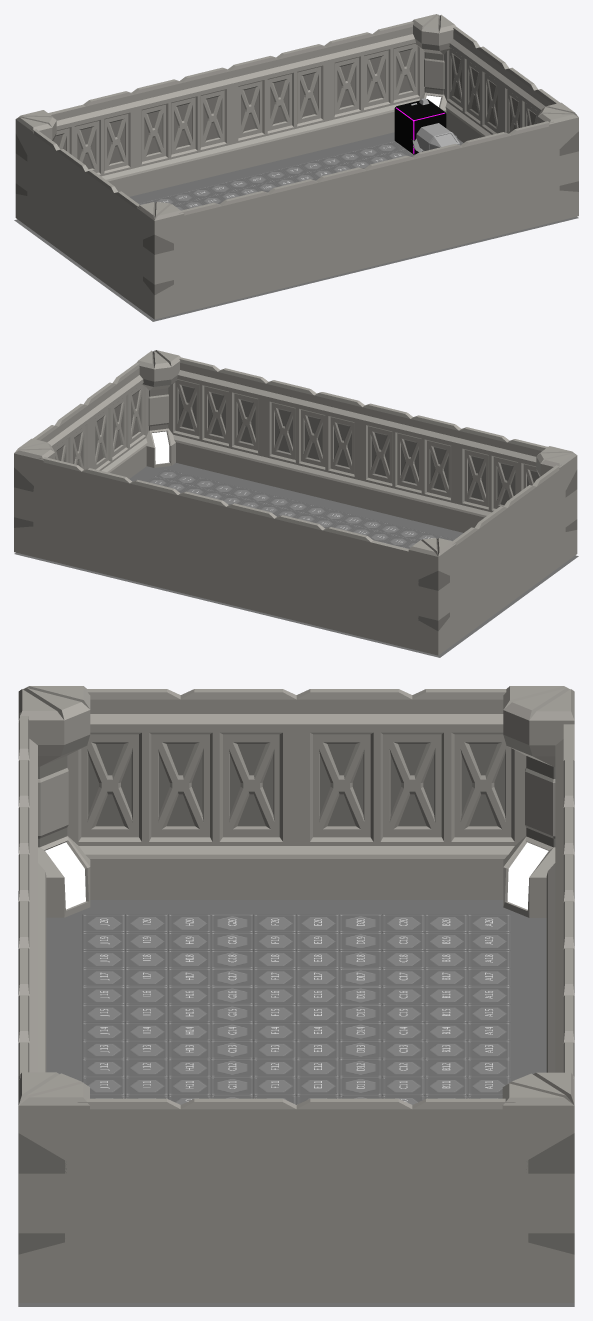
File: Parking_GameBoard_000 2.fbx
The picture shows the model from 3 angles, top to bottom: view 1: azimuth 30°, elevation 25°; view 2: azimuth 150°, elevation 25°; view 3: azimuth 270°, elevation 25°; orthographic projection. The views are drawn at different scales.
Visible parts, largest first — view 1: Game_Border, Game_Floor, Ship_2x2, Ship_2x4; view 2: Game_Border, Game_Floor; view 3: Game_Border, Game_Floor, Map_Coordinates, Tile_A_19, Tile_B_19, Tile_F_19, Tile_J_19, Tile_I_16, Tile_B_18, Tile_I_19, Tile_B_20, Tile_I_14 (+89 smaller).
Part boxes in pixels (left/top/right/bottom): Game_Border: left=15, top=14, right=578, bottom=319; Game_Floor: left=14, top=132, right=578, bottom=321; Ship_2x2: left=394, top=99, right=446, bottom=154; Ship_2x4: left=411, top=103, right=459, bottom=151; Game_Border: left=14, top=350, right=577, bottom=655; Game_Floor: left=14, top=463, right=578, bottom=657; Game_Border: left=18, top=686, right=574, bottom=1302; Game_Floor: left=18, top=891, right=574, bottom=1306; Map_Coordinates: left=100, top=918, right=493, bottom=1102; Tile_A_19: left=467, top=932, right=510, bottom=950; Tile_B_19: left=424, top=932, right=467, bottom=950; Tile_F_19: left=253, top=932, right=296, bottom=950; Tile_J_19: left=82, top=932, right=125, bottom=950; Tile_I_16: left=125, top=986, right=168, bottom=1004; Tile_B_18: left=424, top=950, right=467, bottom=968; Tile_I_19: left=125, top=932, right=168, bottom=950; Tile_B_20: left=424, top=914, right=467, bottom=932; Tile_I_14: left=125, top=1022, right=168, bottom=1040.
Size of the model in its own units: 2300 by 537 by 1300.
